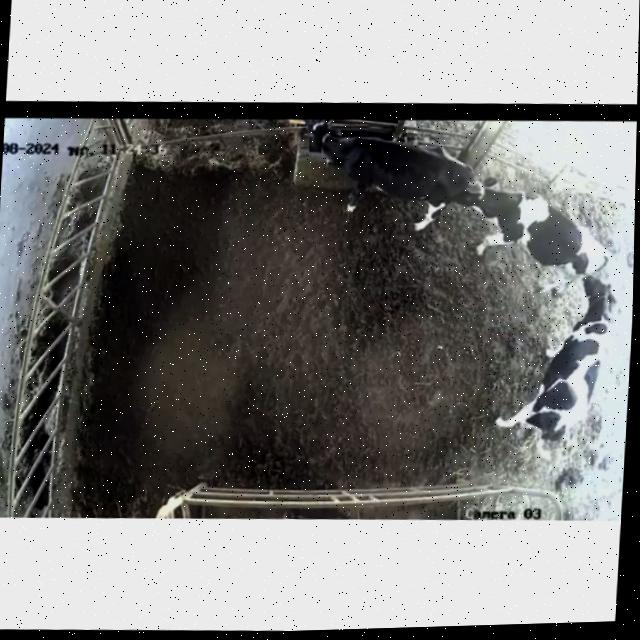drink: (299, 117, 369, 176)
stand: (495, 276, 615, 441), (456, 177, 610, 291)
